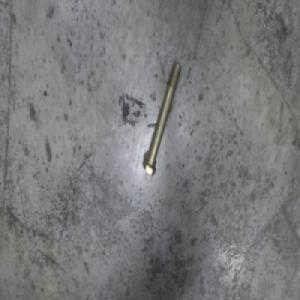Bolt: (142, 61, 184, 176)
